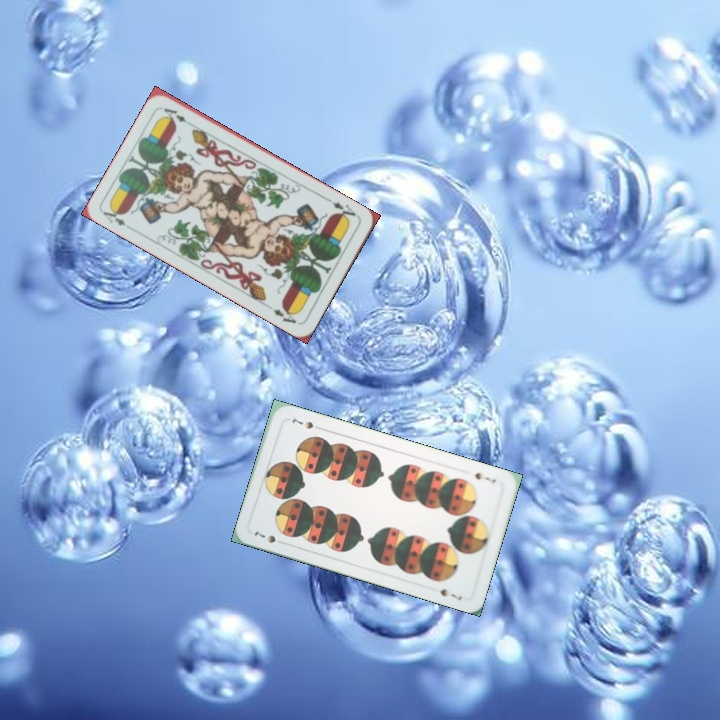EA: (99, 203, 136, 233), (328, 198, 361, 224)
S7: (249, 527, 288, 547), (471, 468, 499, 485)
